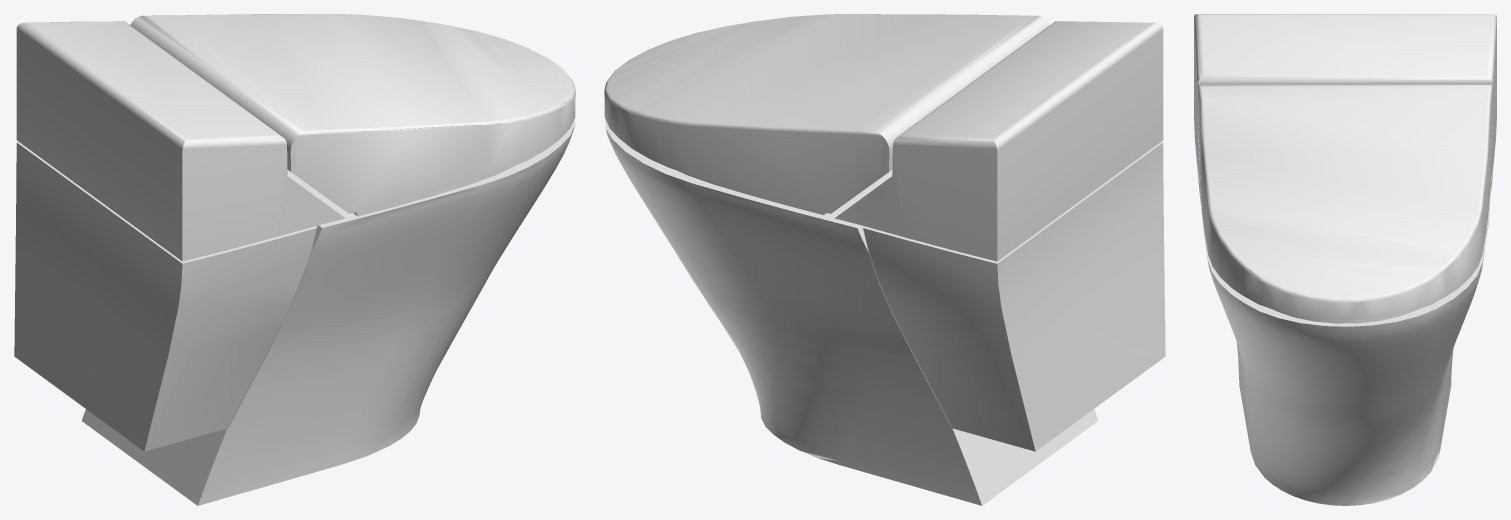
Rendered from SM_Toilet_1.fbx.
3 views of the same model, side by side, from view 1: azimuth 30°, elevation 25°; view 2: azimuth 150°, elevation 25°; view 3: azimuth 270°, elevation 25° (orthographic). The views are drawn at different scales.
Visible parts, largest first — view 1: SM_Toilet_1; view 2: SM_Toilet_1; view 3: SM_Toilet_1.
Part boxes in pixels (left/top/right/bottom): SM_Toilet_1: left=14, top=14, right=575, bottom=505; SM_Toilet_1: left=604, top=14, right=1165, bottom=505; SM_Toilet_1: left=1194, top=14, right=1496, bottom=505.
Size of the model in its own units: 0.6898 by 0.5375 by 0.4141.
1 material, 1 textured.
